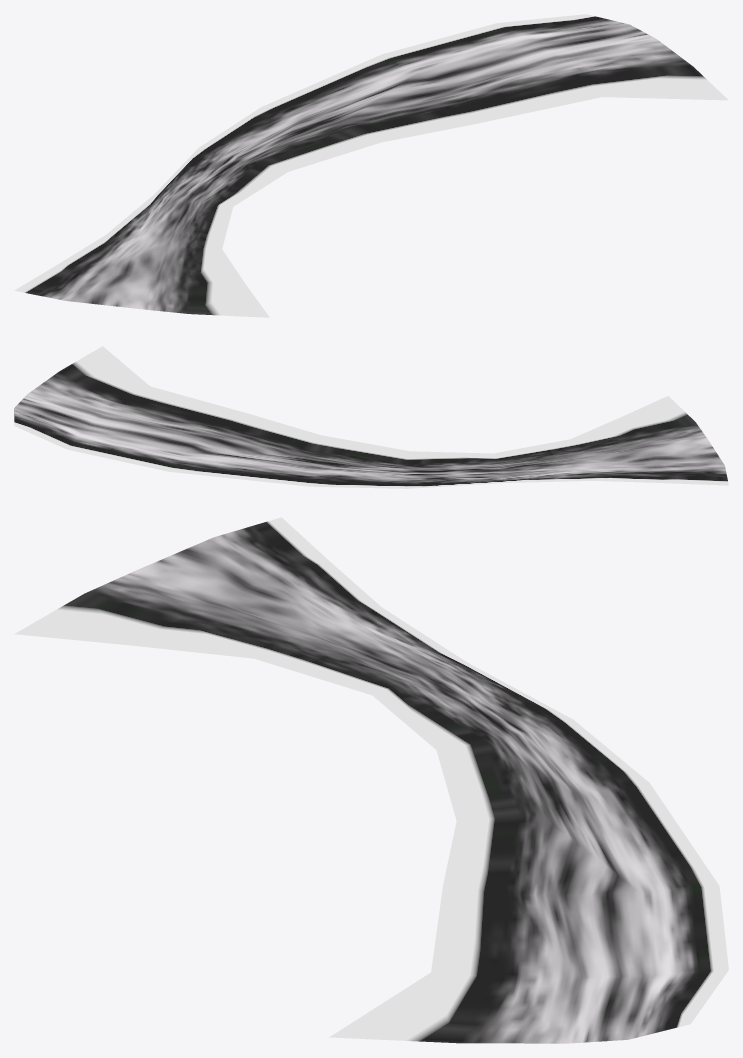
File: pubuB.FBX
3 views of the same model, one above another, from view 1: azimuth 30°, elevation 25°; view 2: azimuth 150°, elevation 25°; view 3: azimuth 270°, elevation 25° (orthographic). The views are drawn at different scales.
Visible parts, largest first — view 1: Plane009; view 2: Plane009; view 3: Plane009.
Boxes of the visible parts, left/top/right/bottom form: Plane009: left=14, top=14, right=728, bottom=317; Plane009: left=14, top=346, right=728, bottom=488; Plane009: left=14, top=517, right=728, bottom=1043.
Size of the model in its own units: 70.27 by 1.11e-14 by 40.34.
Materials: 1 (1 with a texture image).
